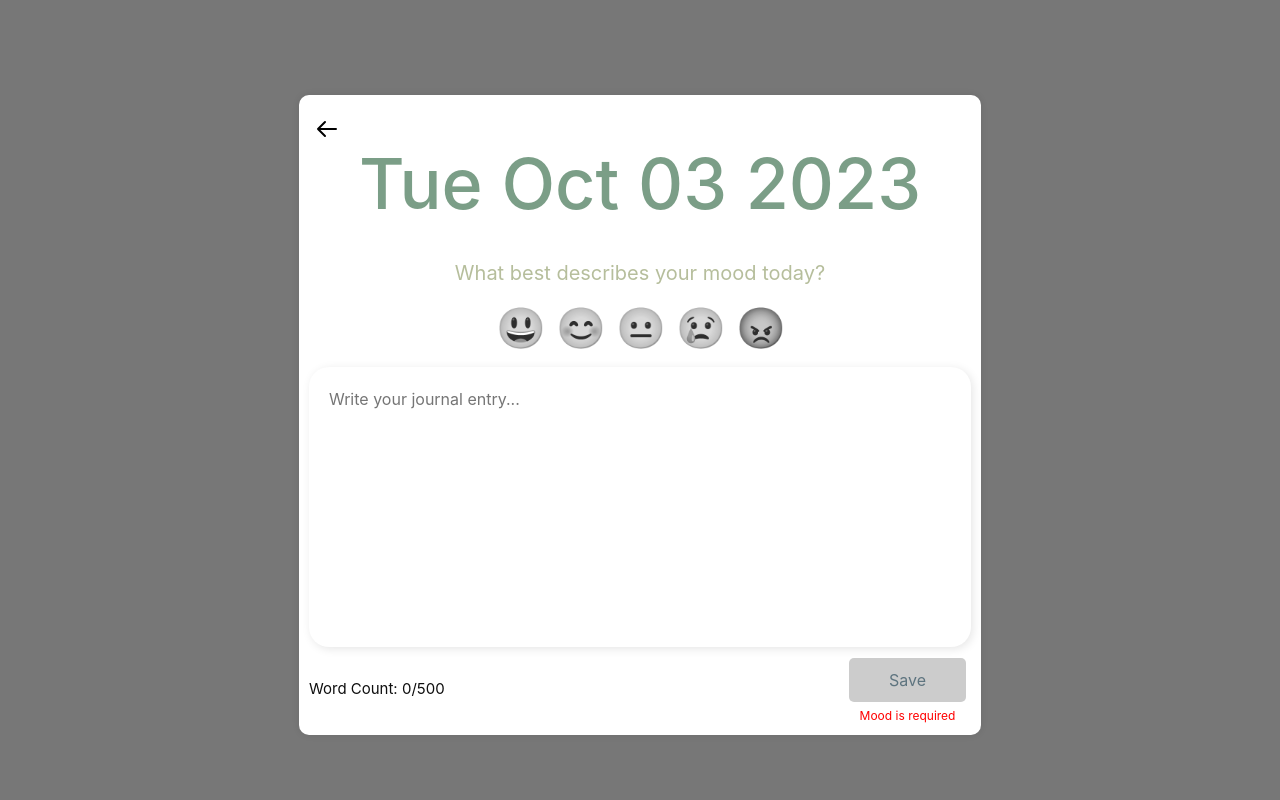
it: Journal Entry Popup › updates word count as user types
Step 1. Type "Hello world" into the text box with placeholder "Write your journal entry..." → (640, 507), box [309, 367, 971, 647]
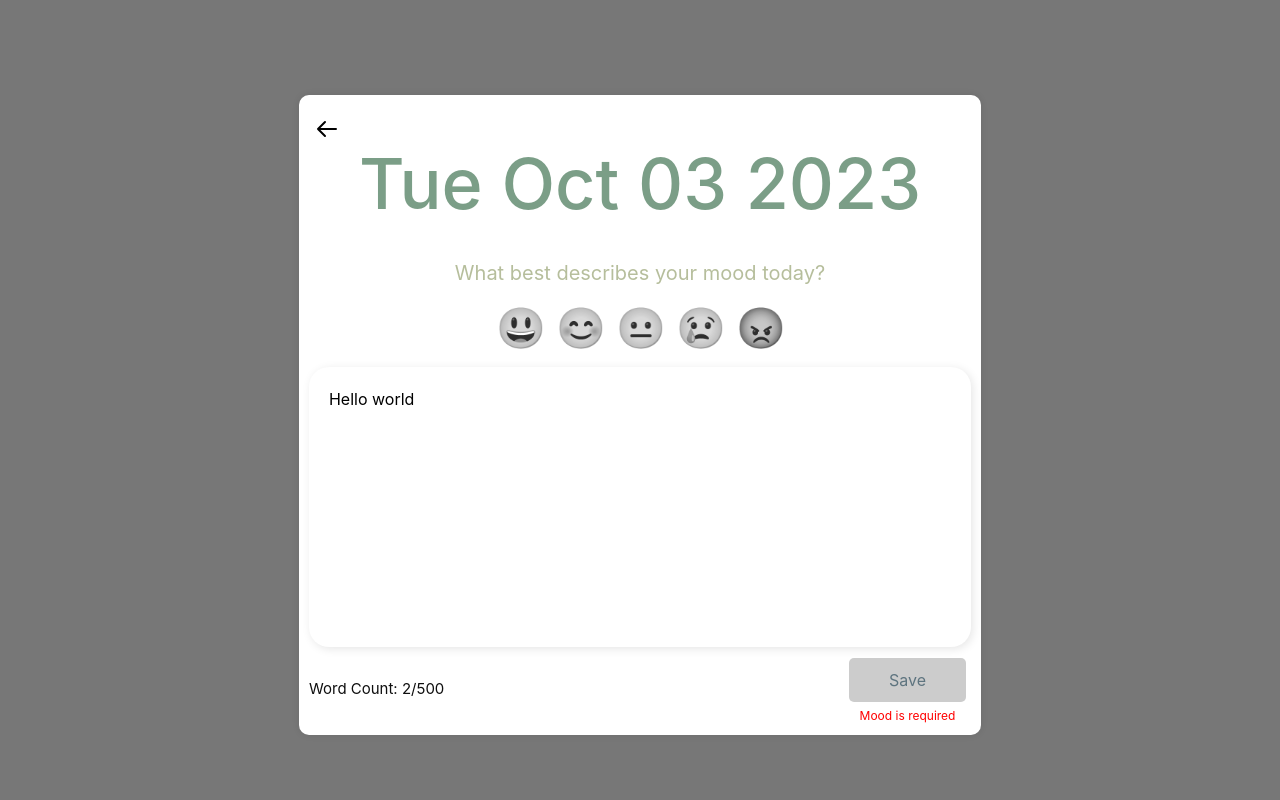
Check: the text "Word Count: 2/500" is shown, box [309, 678, 444, 701]
